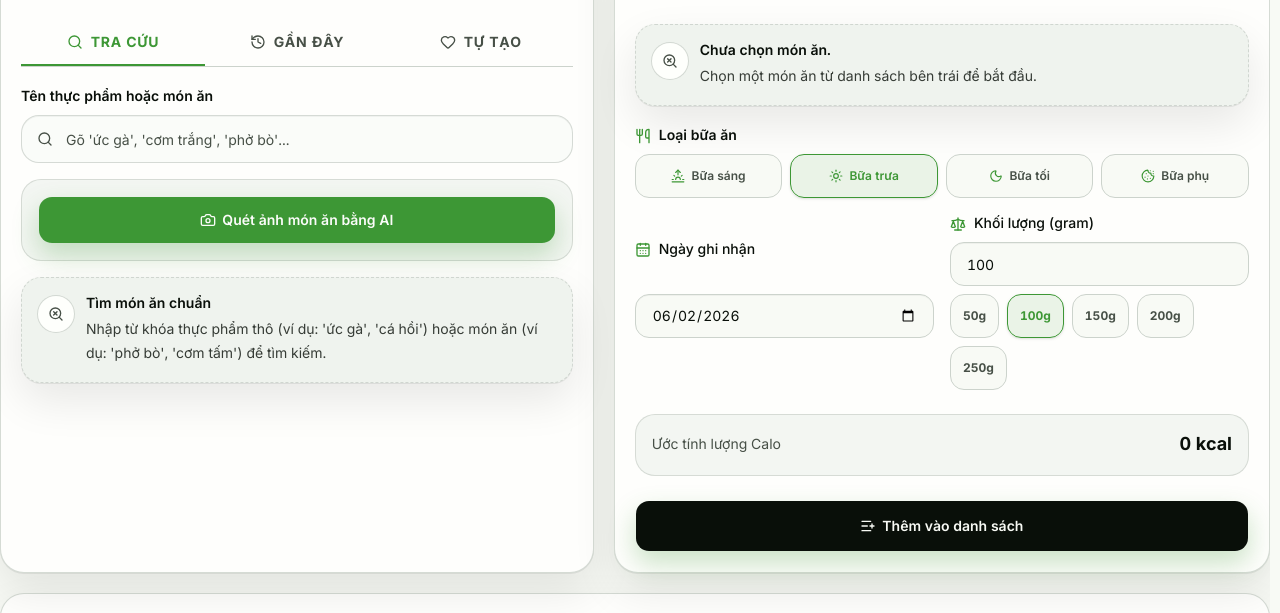
Test: MealLogForm › requires quantity greater than zero
The width and height of the screenshot is (1280, 613).
Step 1. Type "banana" into the field with test id "member-food-search-input" → (297, 139), box [21,115,573,163]
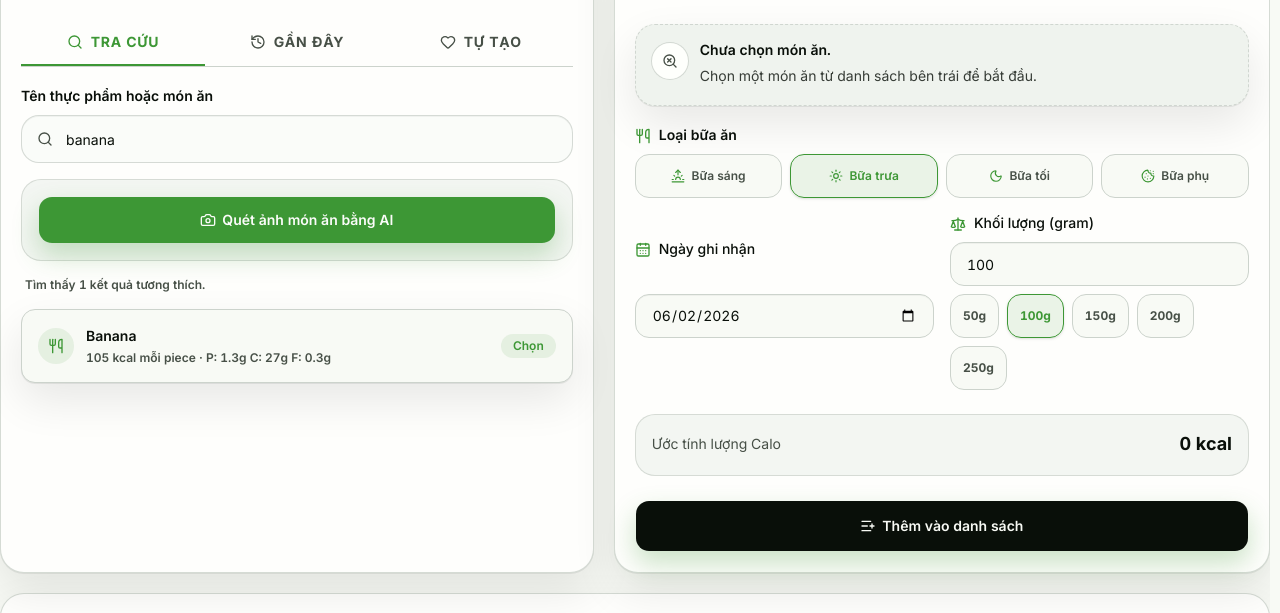
Step 2. Click the text "Banana" → (111, 336), box [86,327,136,344]
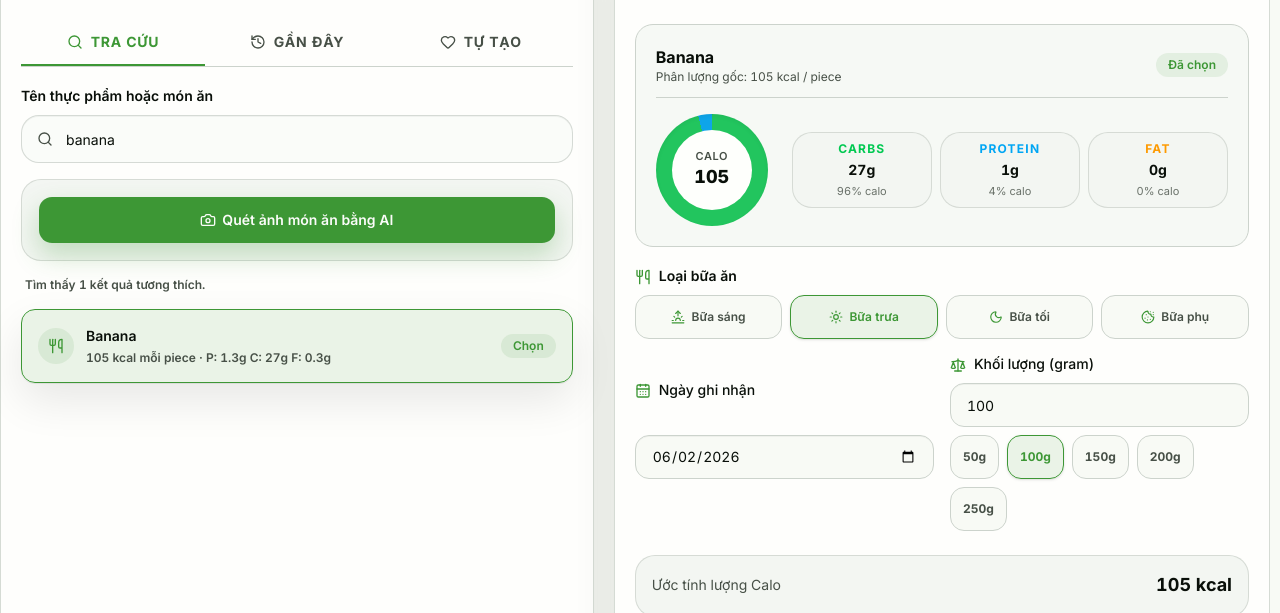
Step 3. Replace the text in the number field with test id "member-meal-quantity-input" with "0" → (1099, 405), box [950,383,1249,427]
(page scrolled)
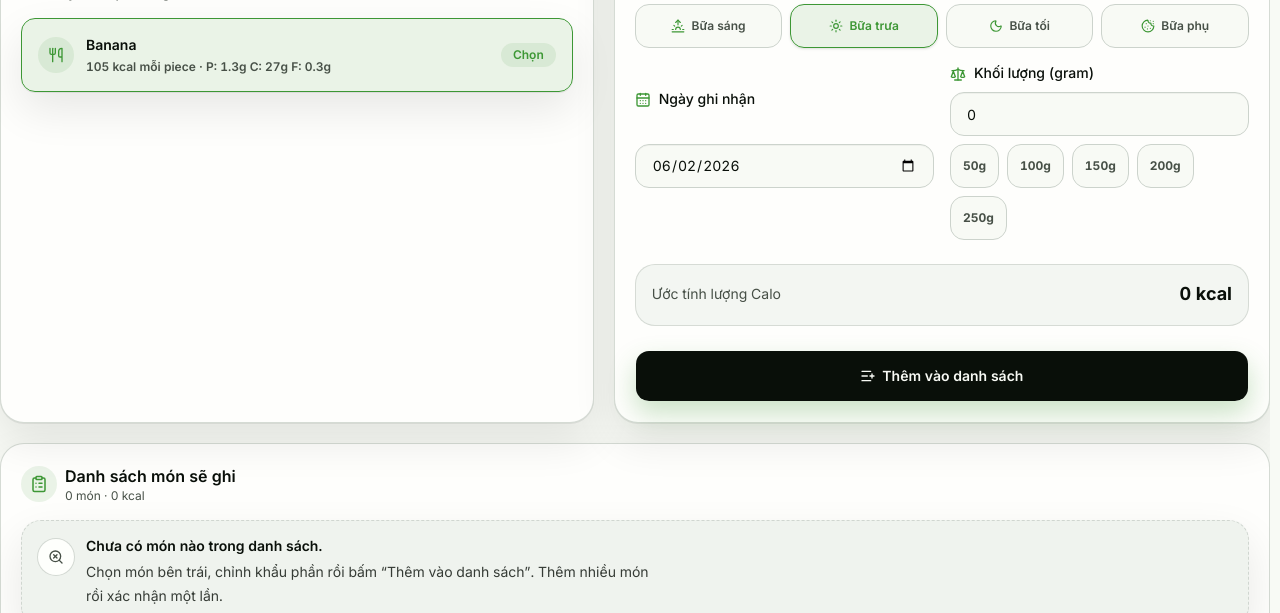
Step 4. Click the button with test id "member-add-meal-button" → (942, 376), box [635,350,1249,402]
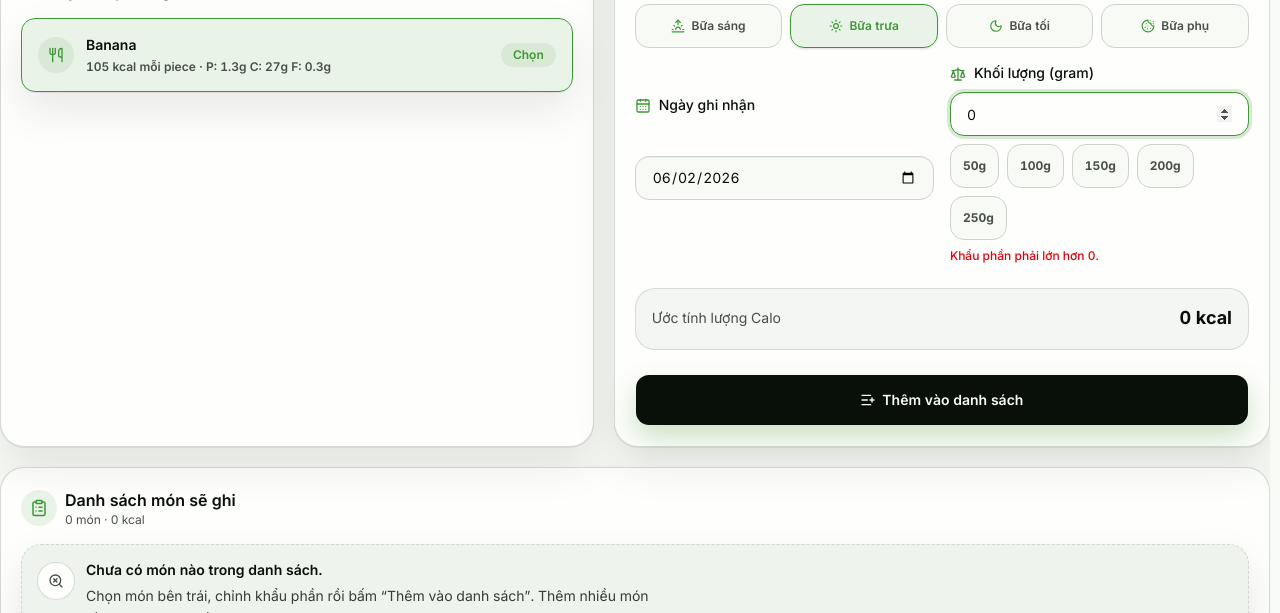
Now the text "Khẩu phần phải lớn hơn 0." is shown, box [950,248,1099,263]
